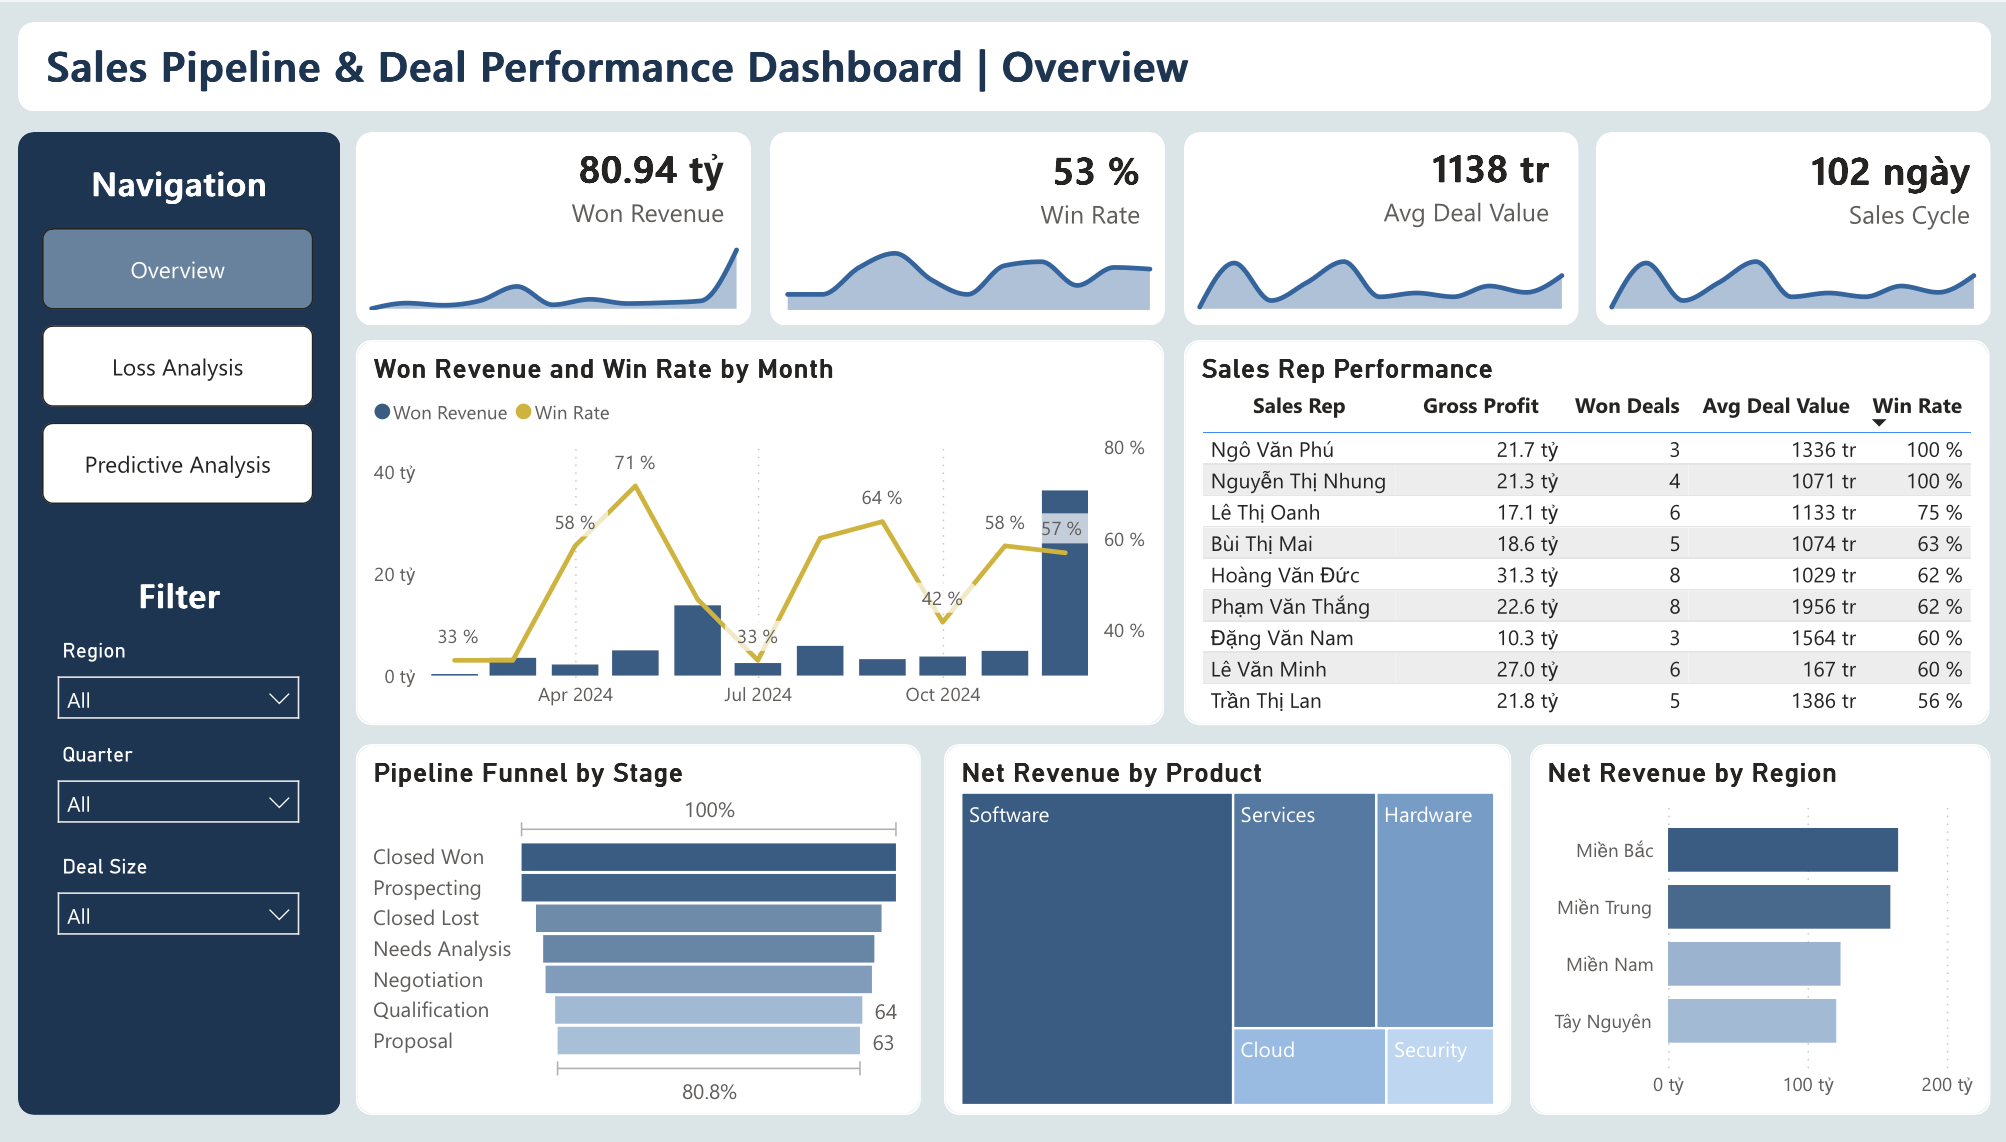

The dashboard page shown, as its layout file describes it:
{"tool":"powerbi","page":{"name":"Overview","canvas":[1280,720],"ordinal":0},"visuals":[{"type":"shape","box":[11.1,82.3,205.7,626.6],"z":0},{"type":"shape","box":[11.1,12.7,1257.8,57],"z":1000},{"type":"textbox","title":"Sales Pipeline & Deal Performance Dashboard  |   Overview","box":[24.7,21.6,1052.8,35.6],"z":2000},{"type":"shape","box":[227.4,82.8,251.8,123.5],"z":3000},{"type":"cardVisual","fields":{"Data":["Deals.Won Revenue"]},"box":[327.7,75.1,163.9,83.5],"z":4000},{"type":"lineChart","fields":{"Category":["Date.MonthStart"],"Y":["Deals.Won Revenue"]},"box":[227,145.1,252.6,51.2],"z":5000},{"type":"shape","box":[1017.4,82.3,251.6,123.4],"z":6000},{"type":"shape","box":[754.7,82.3,251.6,123.4],"z":7000},{"type":"shape","box":[490.6,82.8,251.8,123.5],"z":8000},{"type":"cardVisual","fields":{"Data":["Deals.Win Rate"]},"box":[592.2,75.1,163.9,85],"z":9000},{"type":"lineChart","fields":{"Category":["Date.MonthStart"],"Y":["Deals.Win Rate"]},"box":[491.5,145.1,250.9,51.2],"z":10000},{"type":"cardVisual","fields":{"Data":["Deals.Avg Deal Value"]},"box":[781.7,66.6,235.5,100.7],"z":11000},{"type":"lineChart","fields":{"Category":["Date.MonthStart"],"Y":["Deals.Avg Deal Value"]},"box":[754.3,145.1,250.9,51.2],"z":12000},{"type":"cardVisual","fields":{"Data":["Deals.Sales Cycle"]},"box":[1102.5,68.3,177.5,99],"z":13000},{"type":"lineChart","fields":{"Category":["Date.MonthStart"],"Y":["Deals.Avg Deal Value"]},"box":[1017.2,145.1,250.9,51.2],"z":14000},{"type":"lineClusteredColumnComboChart","title":"Won Revenue and Win Rate by Month","fields":{"Category":["Date.MonthStart"],"Y":["Deals.Won Revenue"],"Y2":["Deals.Win Rate"]},"box":[227.4,216,514.9,245.3],"z":15000},{"type":"treemap","title":"Net Revenue by Product","fields":{"Group":["Deals.Product_Category"],"Values":["Sum(Deals.Net_Revenue_VND)"]},"box":[601.4,473,361.7,236.5],"z":16000},{"type":"funnel","title":"Pipeline Funnel by Stage","fields":{"Category":["Deals.Pipeline_Stage"],"Y":["Count(Deals.Deal_ID)"]},"box":[227.2,473,360.2,236.5],"z":17000},{"type":"tableEx","title":"Sales Rep Performance","fields":{"Values":["Deals.Sales_Rep","Sum(Deals.Gross_Profit_VND)","Deals.Won Deals","Deals.Avg Deal Value","Deals.Win Rate"]},"box":[755.3,216,513.3,245.3],"z":18000},{"type":"clusteredBarChart","title":"Net Revenue by Region","fields":{"Category":["Deals.Region"],"Y":["Sum(Deals.Net_Revenue_VND)"]},"box":[975.5,473,293.7,236.5],"z":19000},{"type":"slicer","fields":{"Values":["Deals.Quarter"]},"box":[26.4,469.1,174,60.6],"z":20000},{"type":"slicer","fields":{"Values":["Deals.Region"]},"box":[26.4,402.3,174,60.6],"z":21000},{"type":"slicer","fields":{"Values":["Deals.Deal_Size_Tier"]},"box":[26.4,540.6,174,60.6],"z":22000},{"type":"pageNavigator","box":[26.4,144.5,174,178.6],"z":23000},{"type":"textbox","title":"Navigation","box":[10.9,101,205,32.6],"z":24000},{"type":"textbox","title":"Filter","box":[10.9,363.5,205,32.6],"z":25000}]}

Visuals, with their boxes in screenshot pixels (x1, y1, x2, y2), scaled from the page's 1280x720 canvas onto the 2006x1142 screenshot:
shape: {"left": 17, "top": 131, "right": 340, "bottom": 1124}
shape: {"left": 17, "top": 20, "right": 1989, "bottom": 111}
"Sales Pipeline & Deal Performance Dashboard  |   Overview" textbox: {"left": 39, "top": 34, "right": 1689, "bottom": 91}
shape: {"left": 356, "top": 131, "right": 751, "bottom": 327}
cardVisual - Deals.Won Revenue: {"left": 514, "top": 119, "right": 770, "bottom": 252}
lineChart - Date.MonthStart x Deals.Won Revenue: {"left": 356, "top": 230, "right": 752, "bottom": 311}
shape: {"left": 1594, "top": 131, "right": 1989, "bottom": 326}
shape: {"left": 1183, "top": 131, "right": 1577, "bottom": 326}
shape: {"left": 769, "top": 131, "right": 1163, "bottom": 327}
cardVisual - Deals.Win Rate: {"left": 928, "top": 119, "right": 1185, "bottom": 254}
lineChart - Date.MonthStart x Deals.Win Rate: {"left": 770, "top": 230, "right": 1163, "bottom": 311}
cardVisual - Deals.Avg Deal Value: {"left": 1225, "top": 106, "right": 1594, "bottom": 265}
lineChart - Date.MonthStart x Deals.Avg Deal Value: {"left": 1182, "top": 230, "right": 1575, "bottom": 311}
cardVisual - Deals.Sales Cycle: {"left": 1728, "top": 108, "right": 2005, "bottom": 265}
lineChart - Date.MonthStart x Deals.Avg Deal Value: {"left": 1594, "top": 230, "right": 1987, "bottom": 311}
"Won Revenue and Win Rate by Month" lineClusteredColumnComboChart: {"left": 356, "top": 343, "right": 1163, "bottom": 732}
"Net Revenue by Product" treemap: {"left": 943, "top": 750, "right": 1509, "bottom": 1125}
"Pipeline Funnel by Stage" funnel: {"left": 356, "top": 750, "right": 921, "bottom": 1125}
"Sales Rep Performance" tableEx: {"left": 1184, "top": 343, "right": 1988, "bottom": 732}
"Net Revenue by Region" clusteredBarChart: {"left": 1529, "top": 750, "right": 1989, "bottom": 1125}
slicer - Deals.Quarter: {"left": 41, "top": 744, "right": 314, "bottom": 840}
slicer - Deals.Region: {"left": 41, "top": 638, "right": 314, "bottom": 734}
slicer - Deals.Deal_Size_Tier: {"left": 41, "top": 857, "right": 314, "bottom": 954}
pageNavigator: {"left": 41, "top": 229, "right": 314, "bottom": 512}
"Navigation" textbox: {"left": 17, "top": 160, "right": 338, "bottom": 212}
"Filter" textbox: {"left": 17, "top": 577, "right": 338, "bottom": 628}
